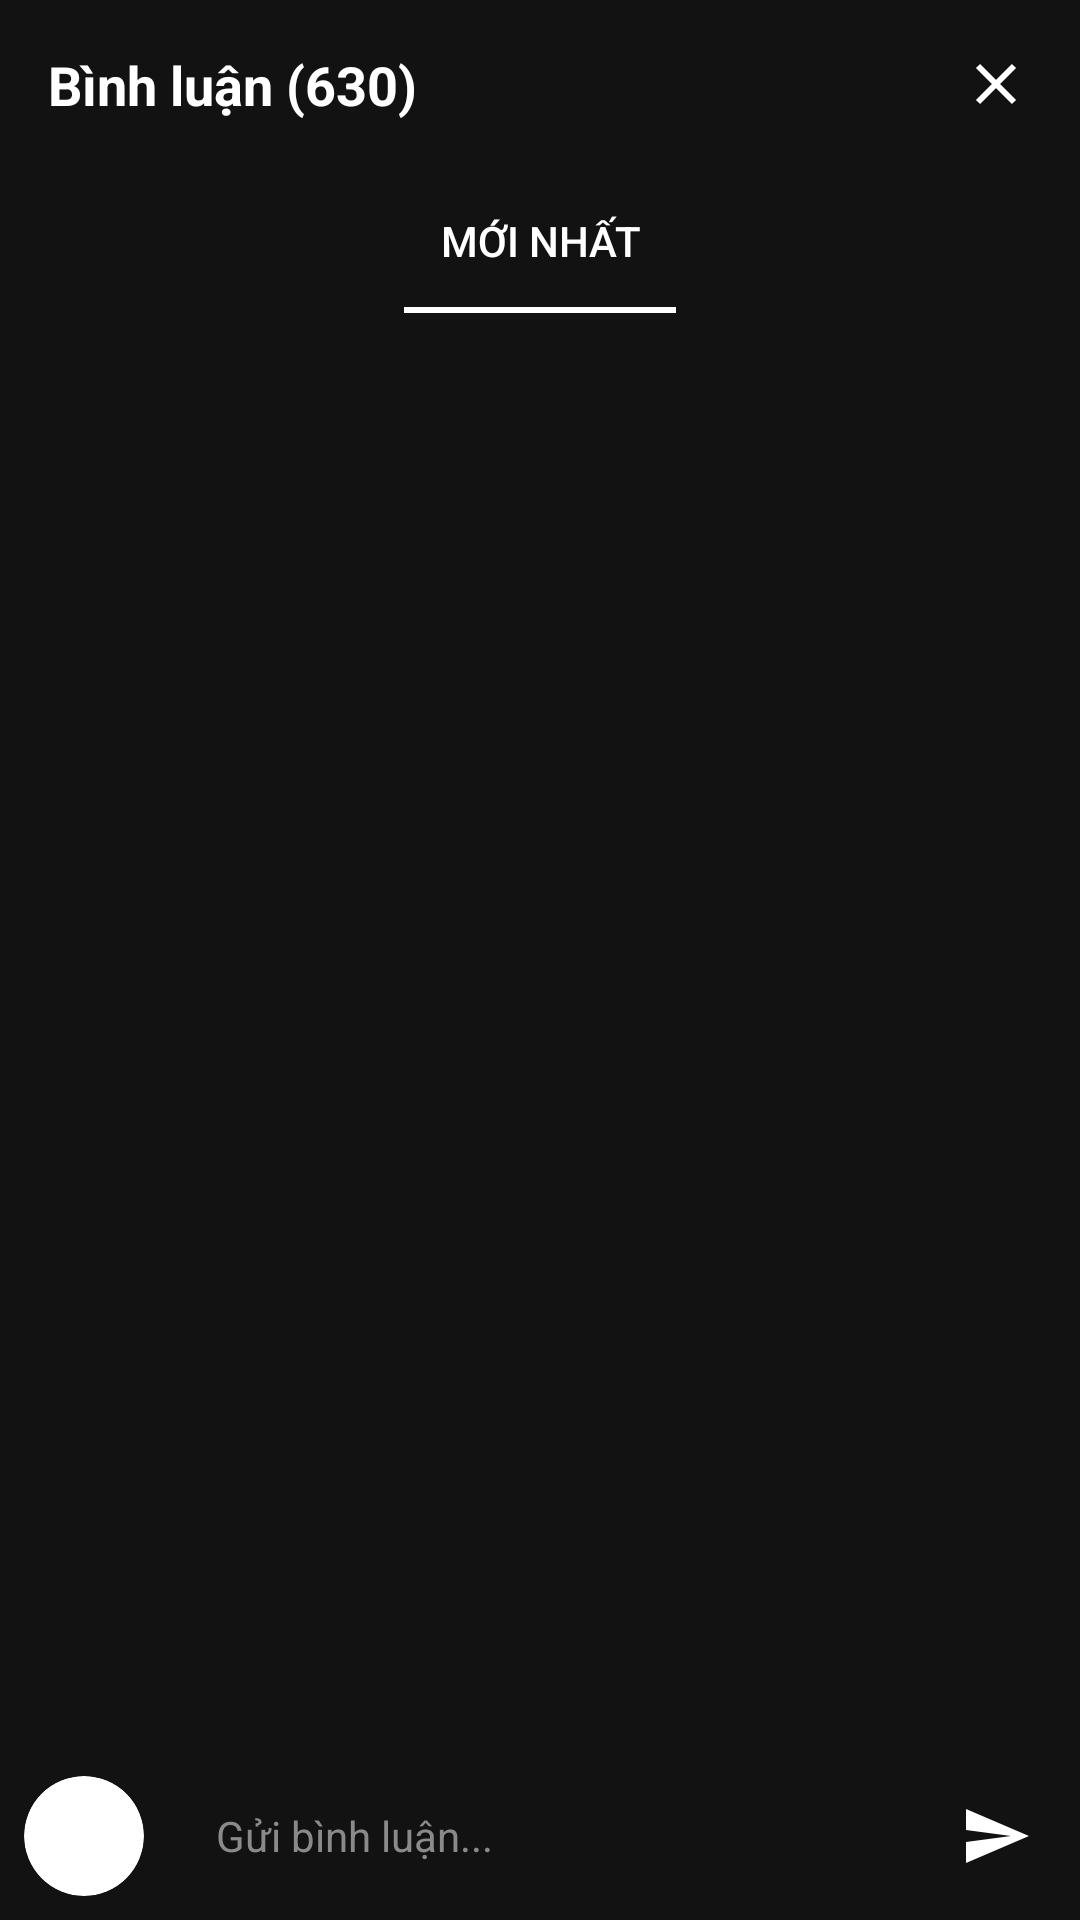

Icon bounding boxes for this 1080*1920 phone screenshot, format (x1, y1, x2, y2):
close: (976, 64, 1016, 104)
send: (966, 1809, 1029, 1863)
